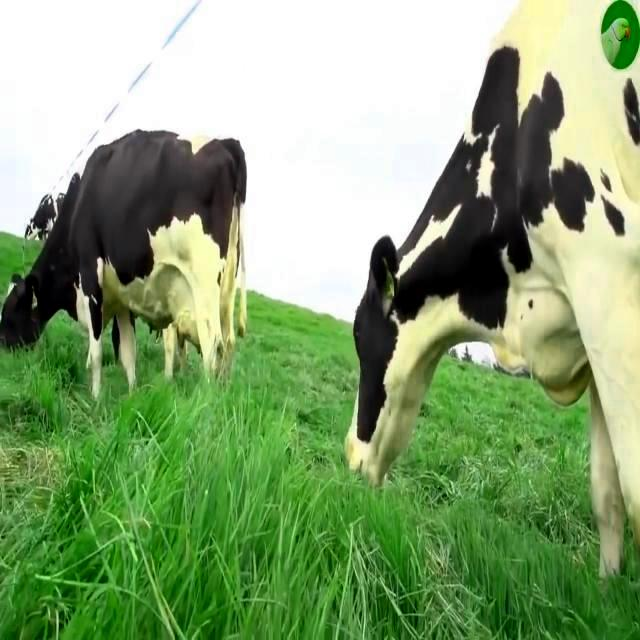COW: (346, 0, 640, 574), (0, 130, 246, 397)
